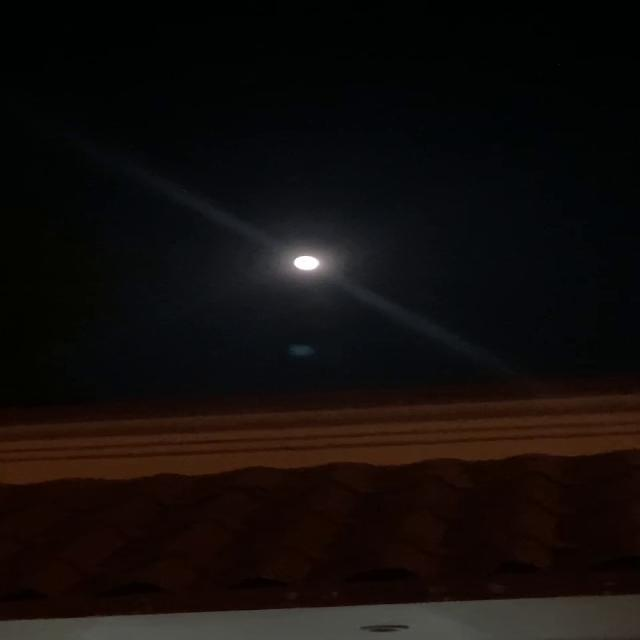moon: (288, 256, 327, 274)
